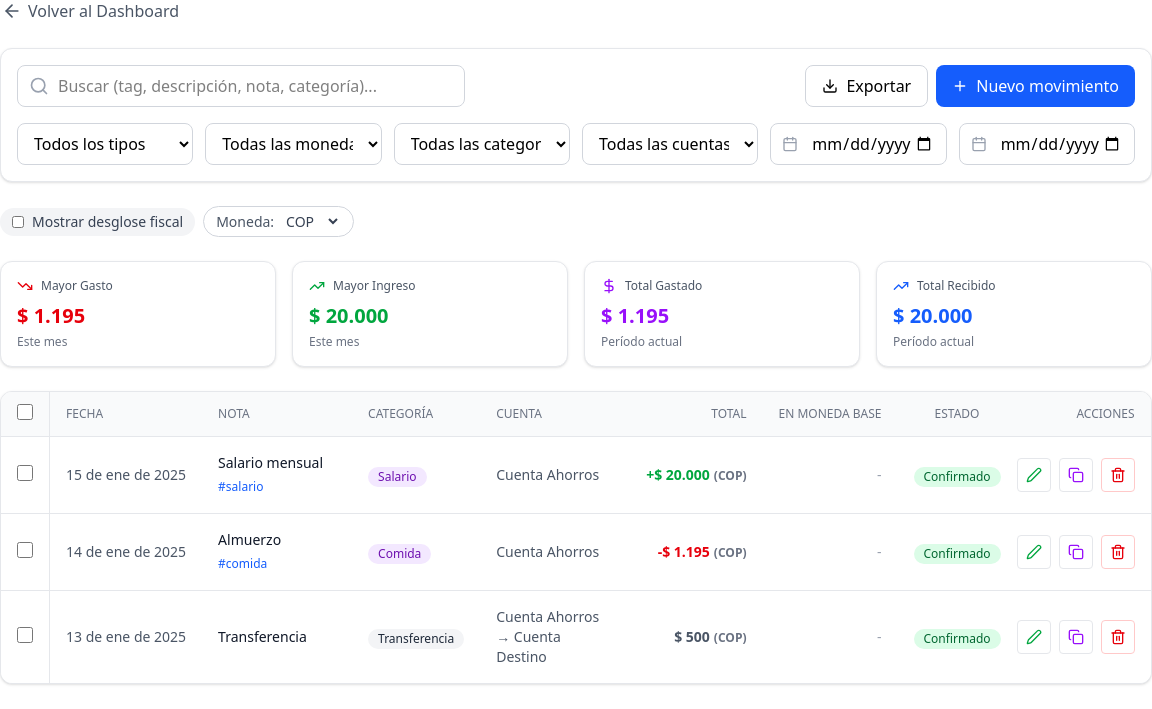
Scenario: Movements › debe abrir el modal de nuevo movimiento al hacer clic
Click the button "Nuevo movimiento" at (1036, 86), box left=936, top=65, right=1135, bottom=107
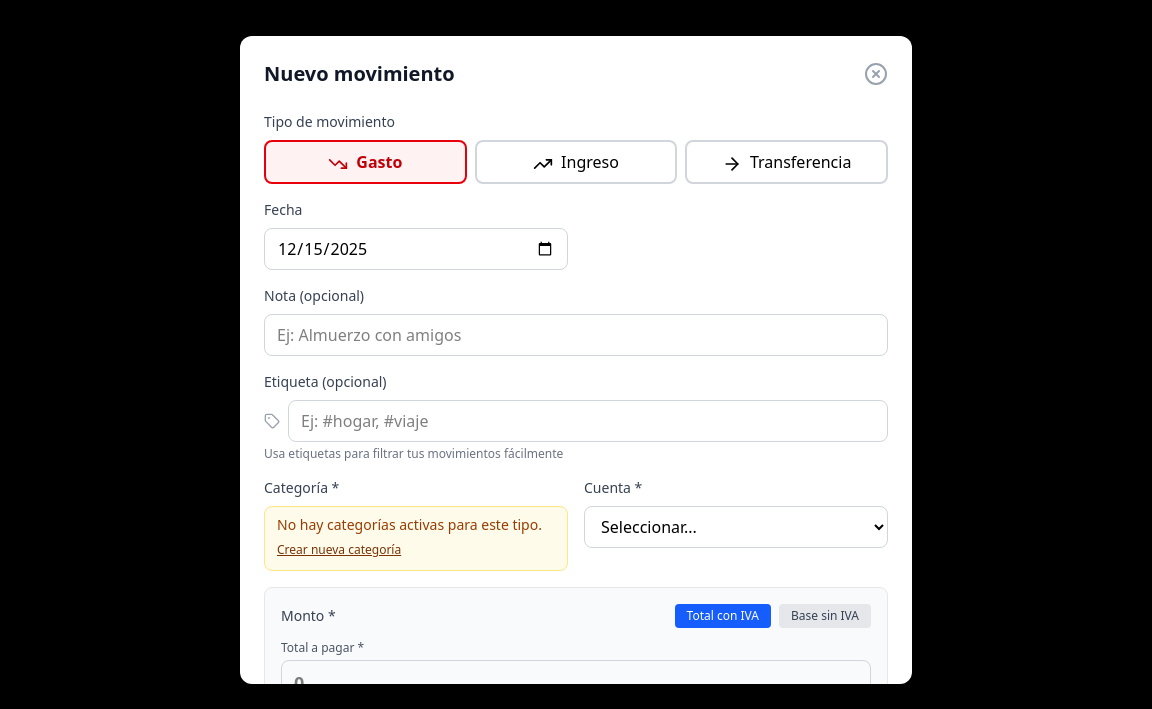
Result: the heading "Nuevo movimiento" is shown at left=264, top=60, right=455, bottom=88
